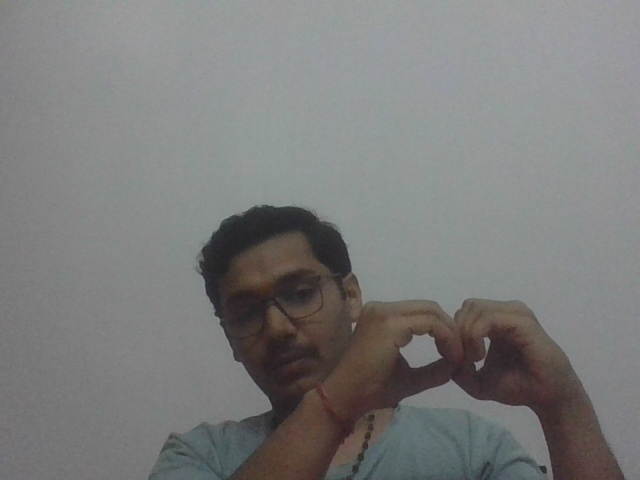B: (353, 291, 573, 414)
